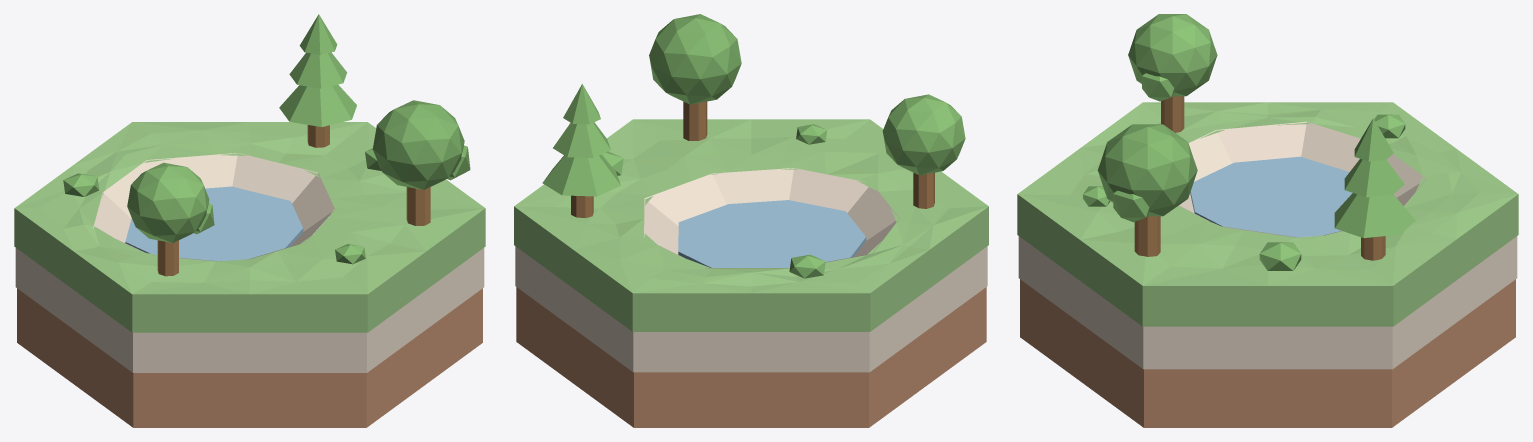
File: paradise-v2.glb
3 renders of one model, left to right at view 1: azimuth 30°, elevation 25°; view 2: azimuth 150°, elevation 25°; view 3: azimuth 270°, elevation 25°, orthographic. The views are drawn at different scales.
Parts seen in each view (by area): view 1: GRASS_top, HEX_brown, HEX_cream, HEX_grass_side, POND_walls, POND_water, T1_crown, T2_crown, T0_tier_0, T0_tier_1, T1_trunk, T0_tier_2 (+4 smaller); view 2: GRASS_top, HEX_brown, HEX_cream, HEX_grass_side, POND_water, POND_walls, T1_crown, T2_crown, T0_tier_0, T0_tier_1, T1_trunk, T0_tier_2 (+4 smaller); view 3: GRASS_top, HEX_brown, HEX_cream, HEX_grass_side, POND_water, POND_walls, T1_crown, T2_crown, T0_tier_0, T0_tier_1, BUSH_0, T1_trunk (+6 smaller).
Part boxes in pixels (<box>): GRASS_top: <box>15,122,484,294</box>; HEX_brown: <box>17,288,482,427</box>; HEX_cream: <box>15,217,484,372</box>; HEX_grass_side: <box>14,208,485,332</box>; POND_walls: <box>93,153,334,261</box>; POND_water: <box>125,186,303,261</box>; T1_crown: <box>372,100,464,189</box>; T2_crown: <box>127,162,209,242</box>; T0_tier_0: <box>279,84,356,126</box>; T0_tier_1: <box>289,52,347,88</box>; T1_trunk: <box>406,187,430,225</box>; T0_tier_2: <box>299,14,337,54</box>; GRASS_top: <box>514,119,988,293</box>; HEX_brown: <box>516,287,986,427</box>; HEX_cream: <box>515,246,987,372</box>; HEX_grass_side: <box>514,206,988,331</box>; POND_water: <box>678,200,866,267</box>; POND_walls: <box>644,168,899,268</box>; T1_crown: <box>649,14,741,104</box>; T2_crown: <box>882,94,965,175</box>; T0_tier_0: <box>542,155,620,196</box>; T0_tier_1: <box>553,122,610,157</box>; T1_trunk: <box>683,101,707,140</box>; T0_tier_2: <box>563,84,600,124</box>; GRASS_top: <box>1017,102,1518,285</box>; HEX_brown: <box>1020,279,1515,427</box>; HEX_cream: <box>1018,193,1517,369</box>; HEX_grass_side: <box>1017,194,1518,326</box>; POND_water: <box>1190,156,1352,237</box>; POND_walls: <box>1179,121,1426,239</box>; T1_crown: <box>1097,124,1197,216</box>; T2_crown: <box>1128,14,1217,96</box>; T0_tier_0: <box>1334,193,1415,237</box>; T0_tier_1: <box>1344,159,1404,197</box>; BUSH_0: <box>1259,242,1301,270</box>; T1_trunk: <box>1134,216,1160,256</box>.
Size of the model in its own units: 1.73 by 1.24 by 2.
